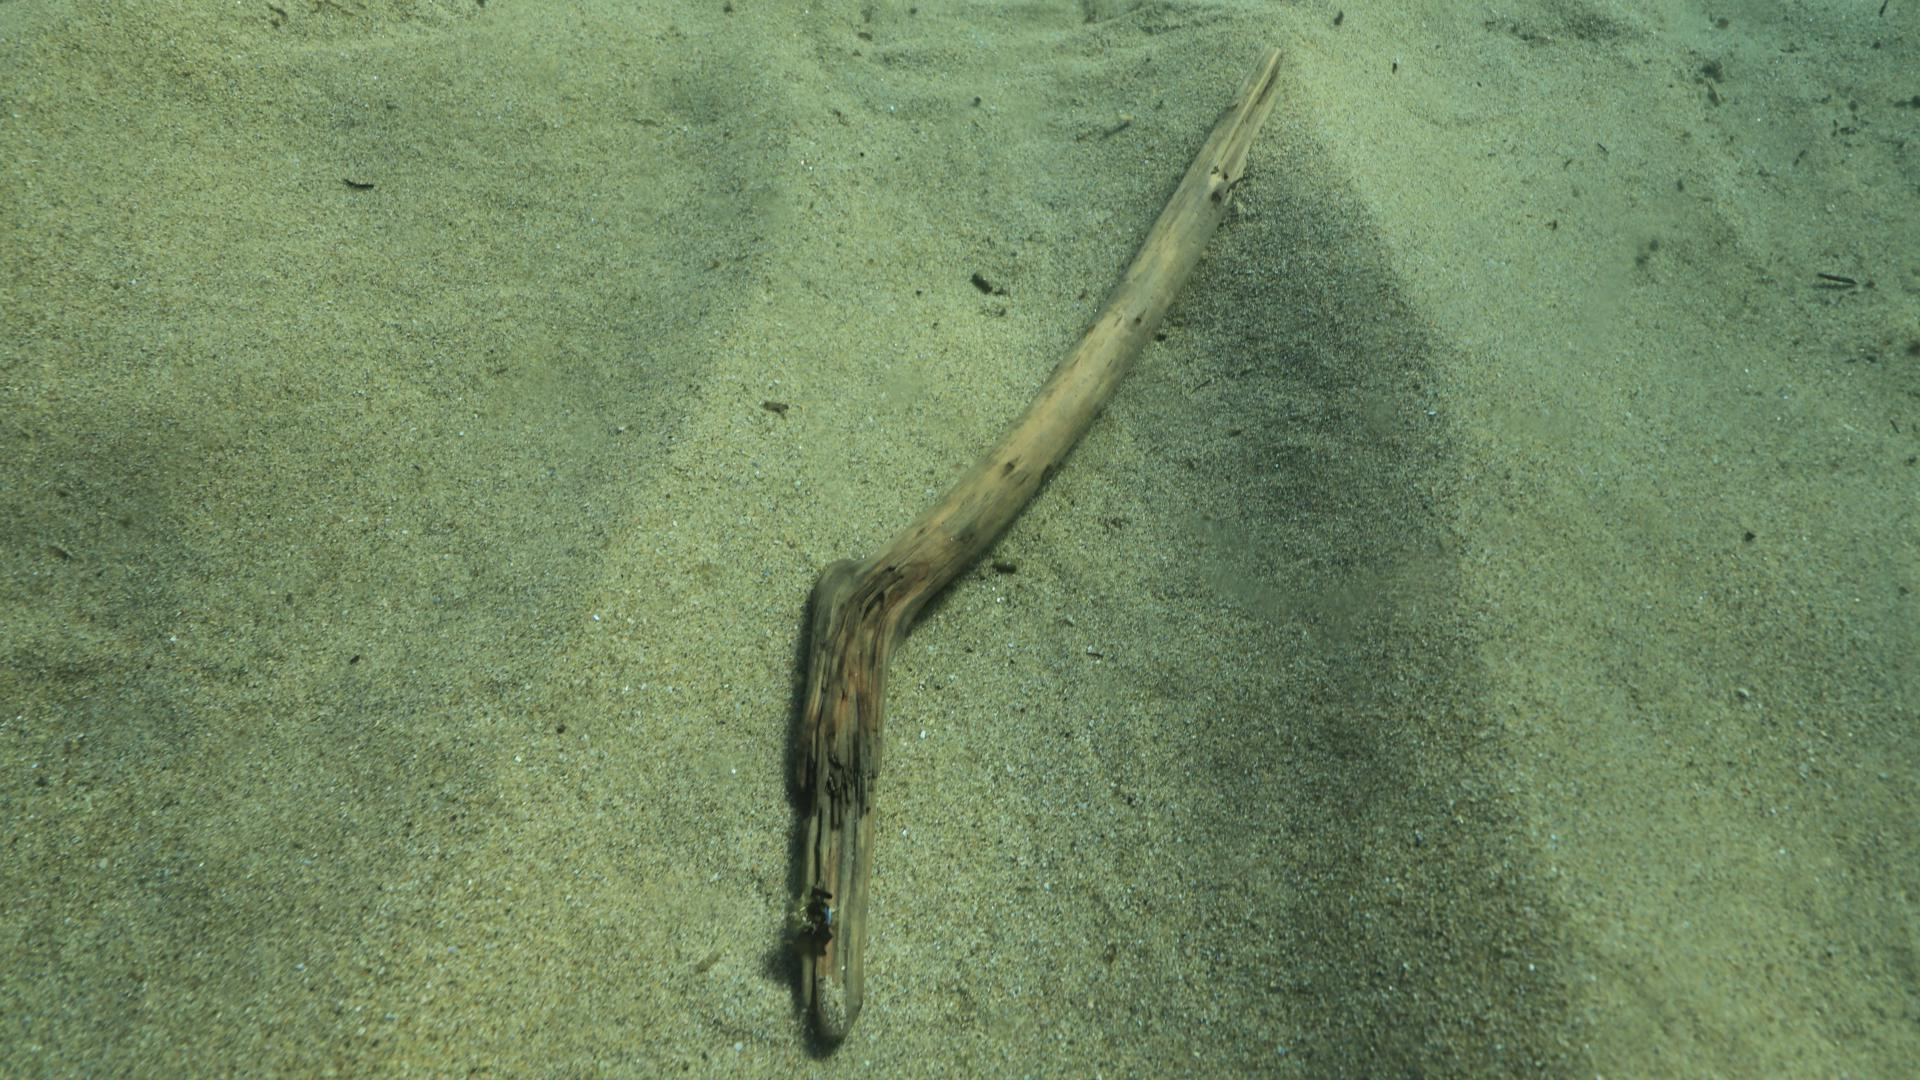wood: (789, 46, 1288, 1042)
